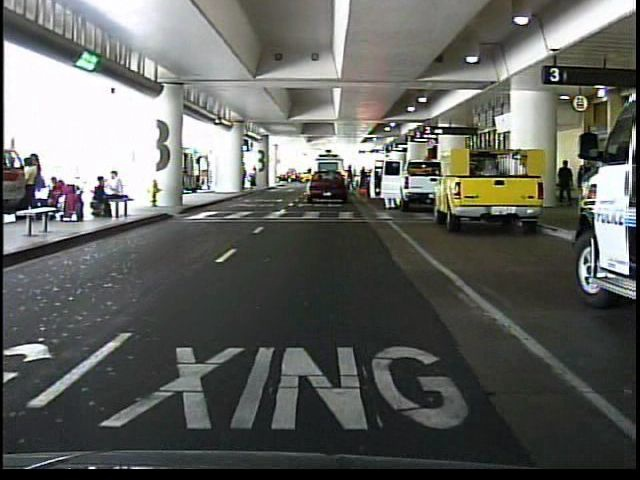person: (552, 156, 577, 211), (249, 166, 260, 191)
